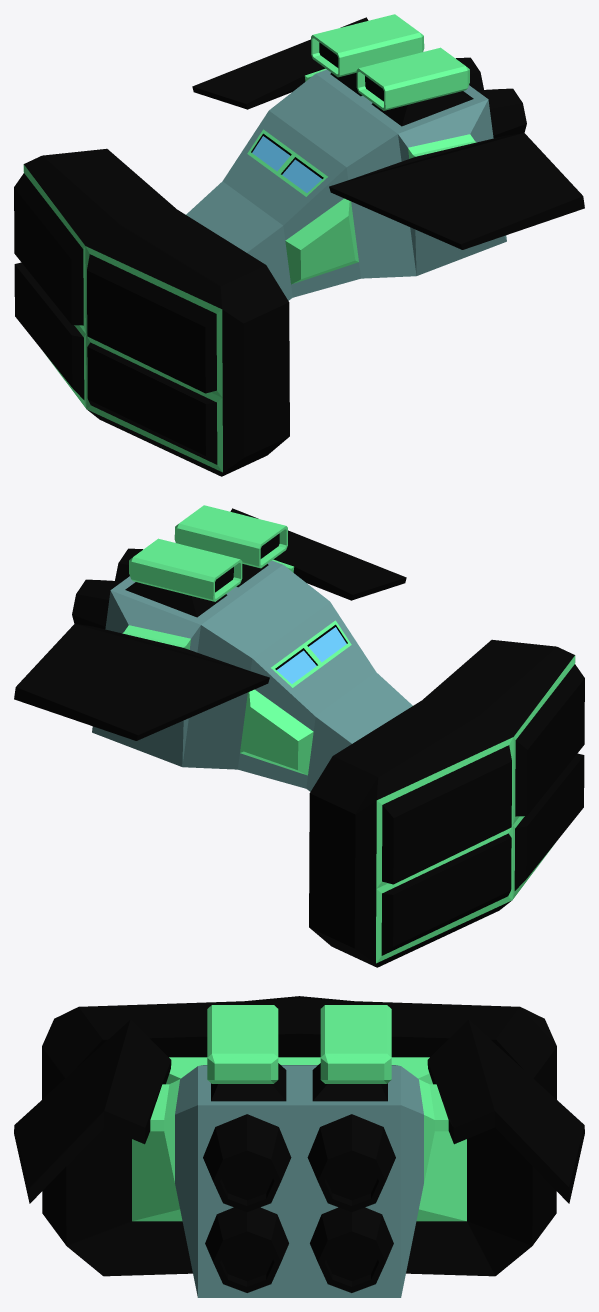
File: defender5.fbx
3 views of the same model, one above another, from view 1: azimuth 30°, elevation 25°; view 2: azimuth 150°, elevation 25°; view 3: azimuth 270°, elevation 25° (orthographic). The views are drawn at different scales.
Visible parts, largest first — view 1: Defender5; view 2: Defender5; view 3: Defender5.
Part boxes in pixels (x1,y1,x2,y2): Defender5: (14, 14, 584, 476); Defender5: (14, 505, 584, 967); Defender5: (14, 996, 584, 1297).
Size of the model in its own units: 566 by 392 by 549.
